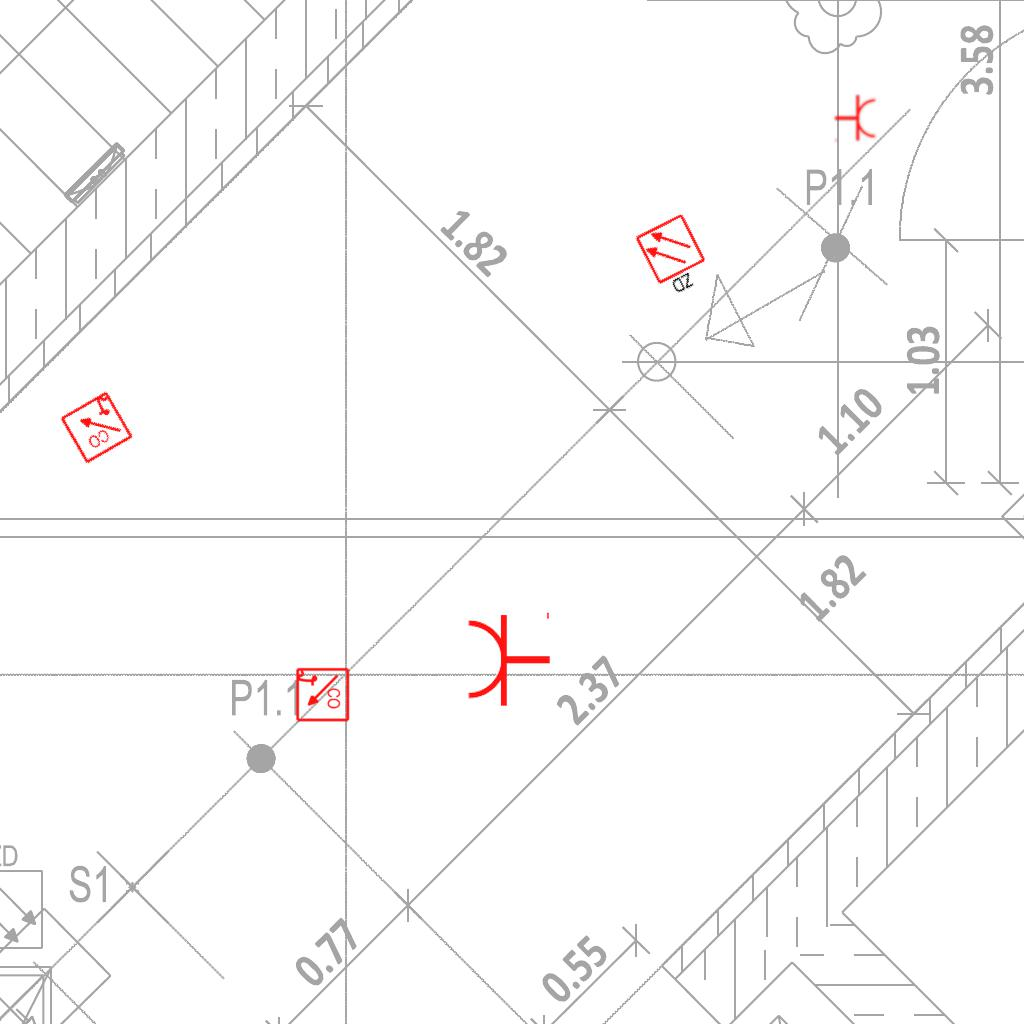ROA_Rauchmelder_optisch_mit_Signalgeber_(Sockelsirene): (57, 388, 135, 466), (294, 667, 350, 723)
Schukosteckdose_einfach: (465, 608, 552, 708), (834, 94, 877, 144)
ZD_Melder_in_Zwischendecke_mit_Revisionsoeffnung_mind_40_x_40_cm: (633, 211, 718, 303)
